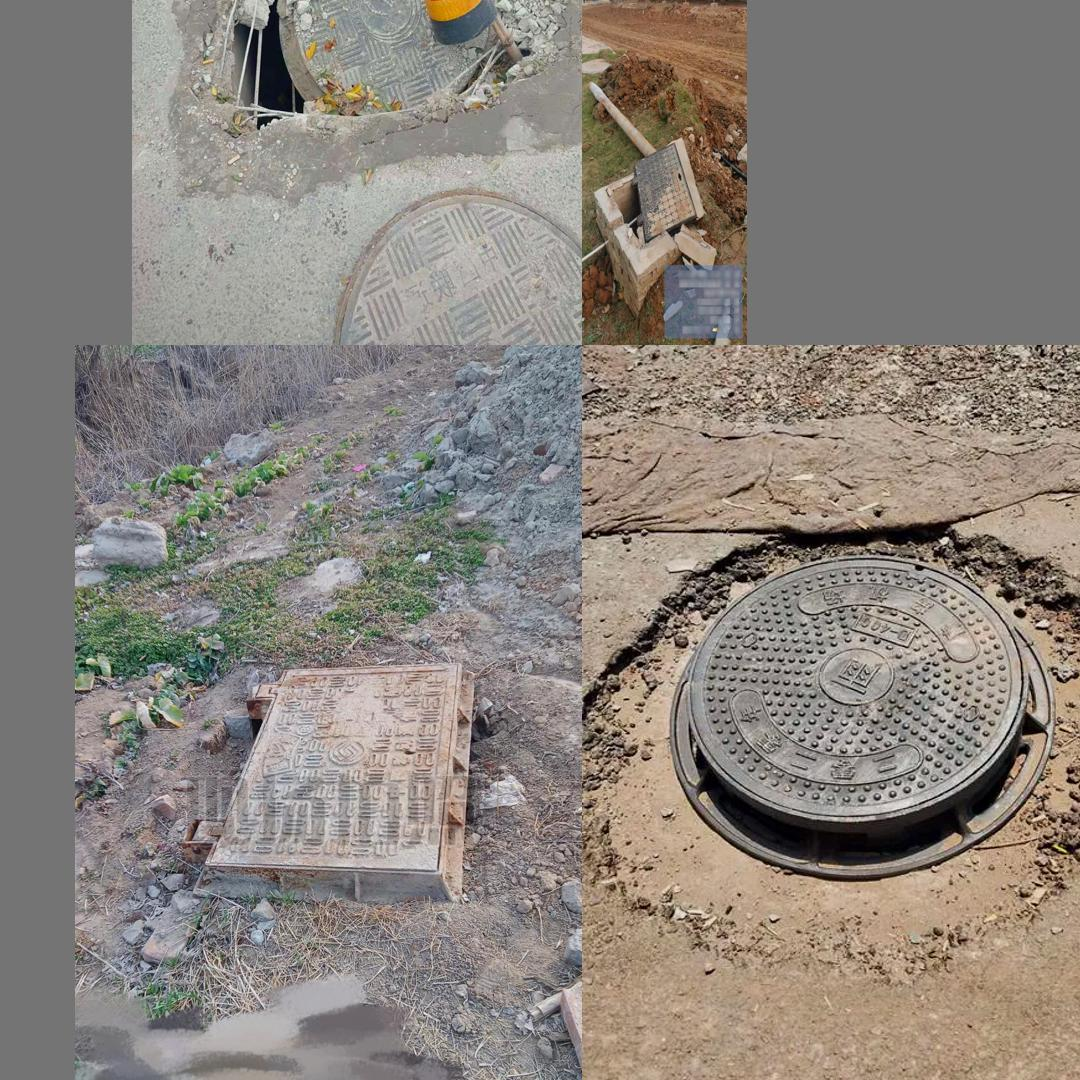circle: (593, 527, 1080, 972), (182, 654, 484, 907), (226, 0, 514, 118), (601, 136, 712, 266)
